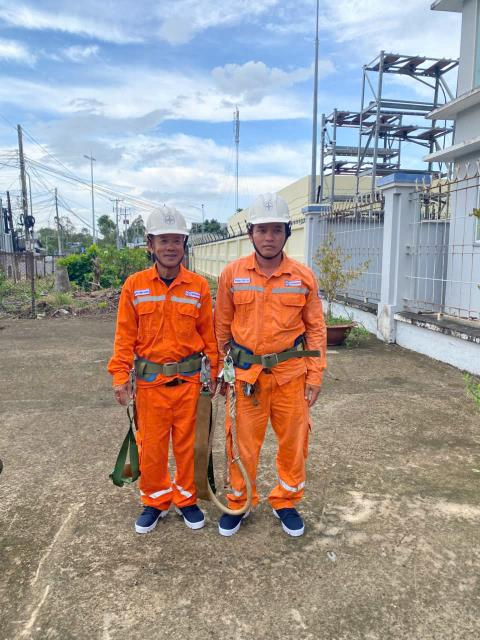harness: (125, 345, 218, 387), (223, 336, 314, 368)
helmet: (230, 180, 305, 235), (141, 193, 196, 248)
shoes: (267, 498, 318, 538), (131, 496, 171, 533), (218, 496, 247, 538), (173, 495, 212, 523)
